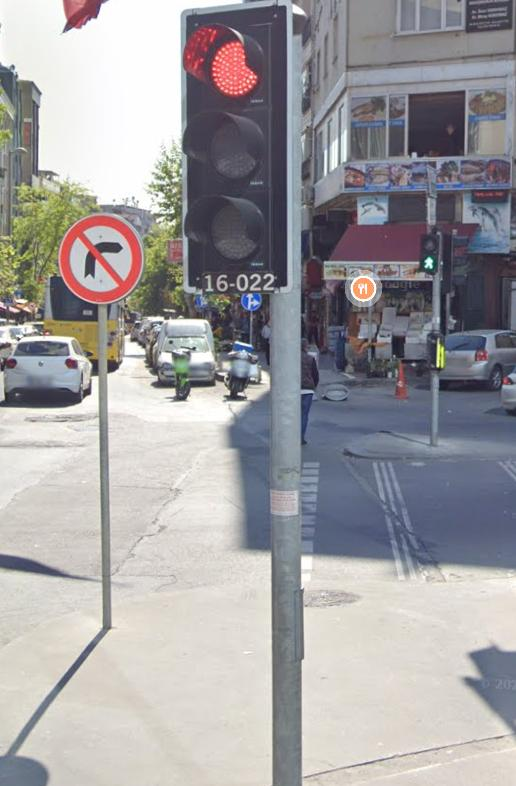redlight: (182, 8, 277, 260)
rightturnsareforbidden: (60, 213, 149, 302)
